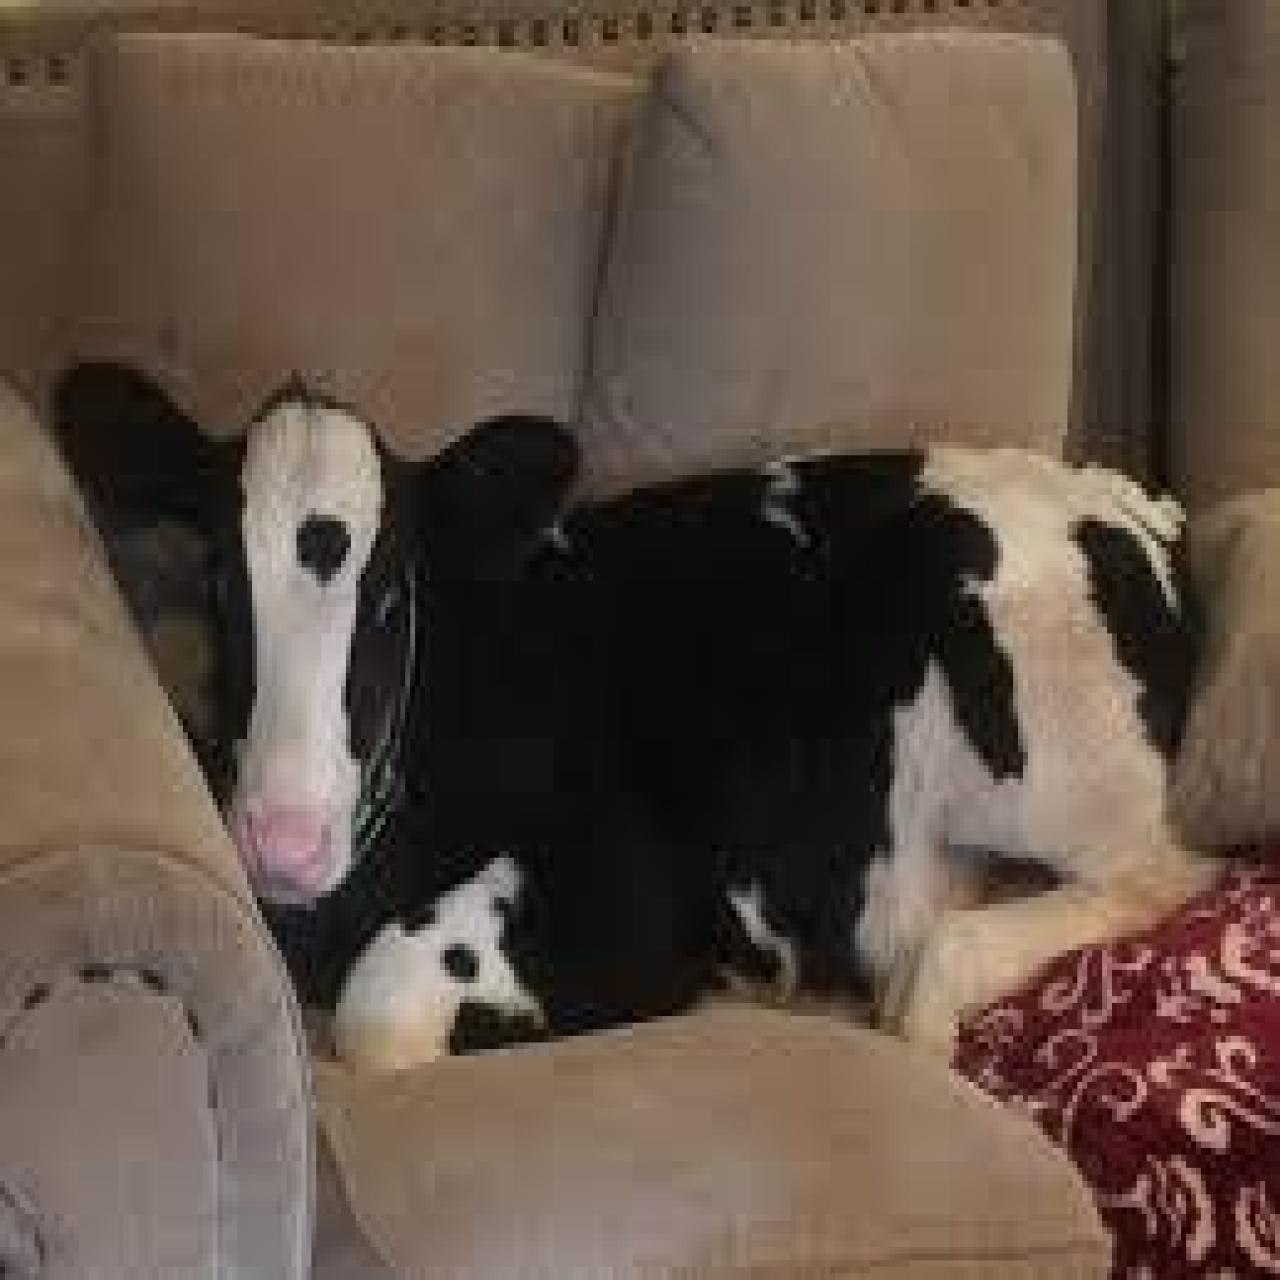cow: (47, 347, 1228, 1065)
